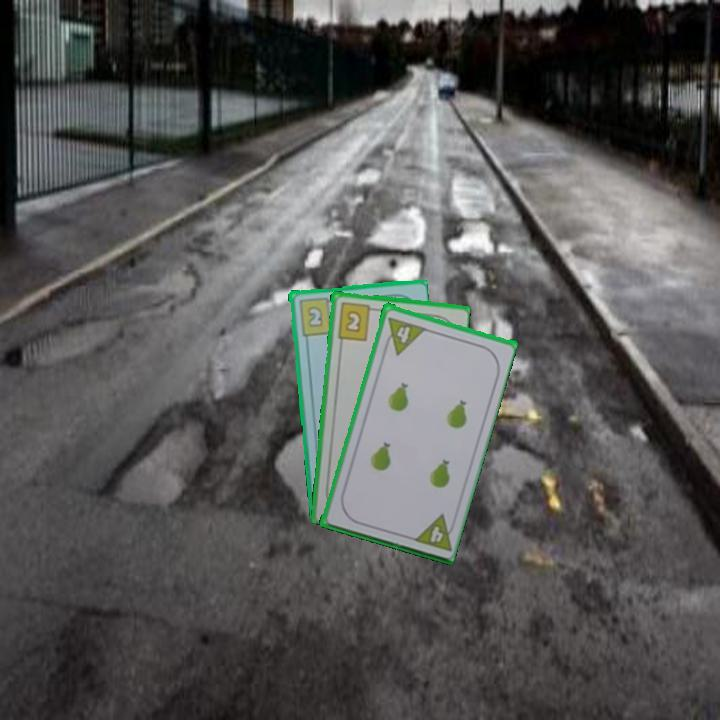2b: (334, 298, 379, 343), (295, 294, 337, 338)
4p: (393, 320, 427, 357), (426, 522, 446, 545)
